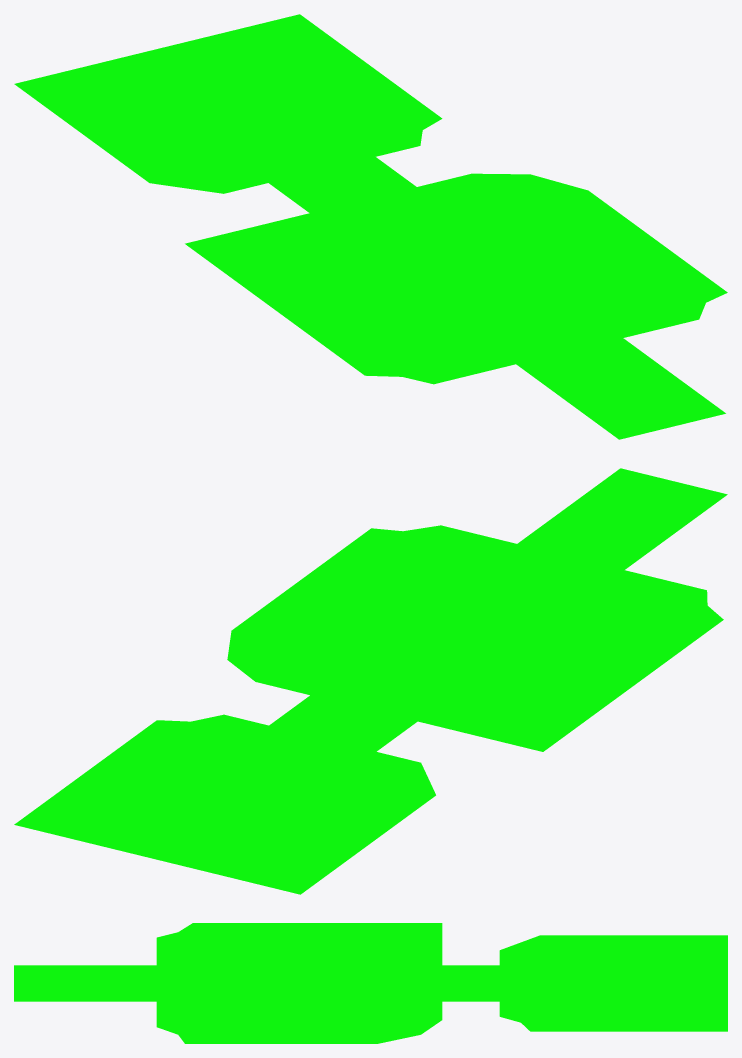
File: s04b_ga1-floor.glb
The picture shows the model from 3 angles, top to bottom: view 1: azimuth 30°, elevation 25°; view 2: azimuth 150°, elevation 25°; view 3: azimuth 270°, elevation 25°; orthographic projection. The views are drawn at different scales.
Visible parts, largest first — view 1: collision_floor-colonly; view 2: collision_floor-colonly; view 3: collision_floor-colonly.
Boxes of the visible parts, x1=… form: collision_floor-colonly: x1=14, y1=14, x2=727, y2=439; collision_floor-colonly: x1=14, y1=468, x2=727, y2=894; collision_floor-colonly: x1=14, y1=923, x2=727, y2=1043.
Size of the model in its own units: 20 by 0 by 50.
